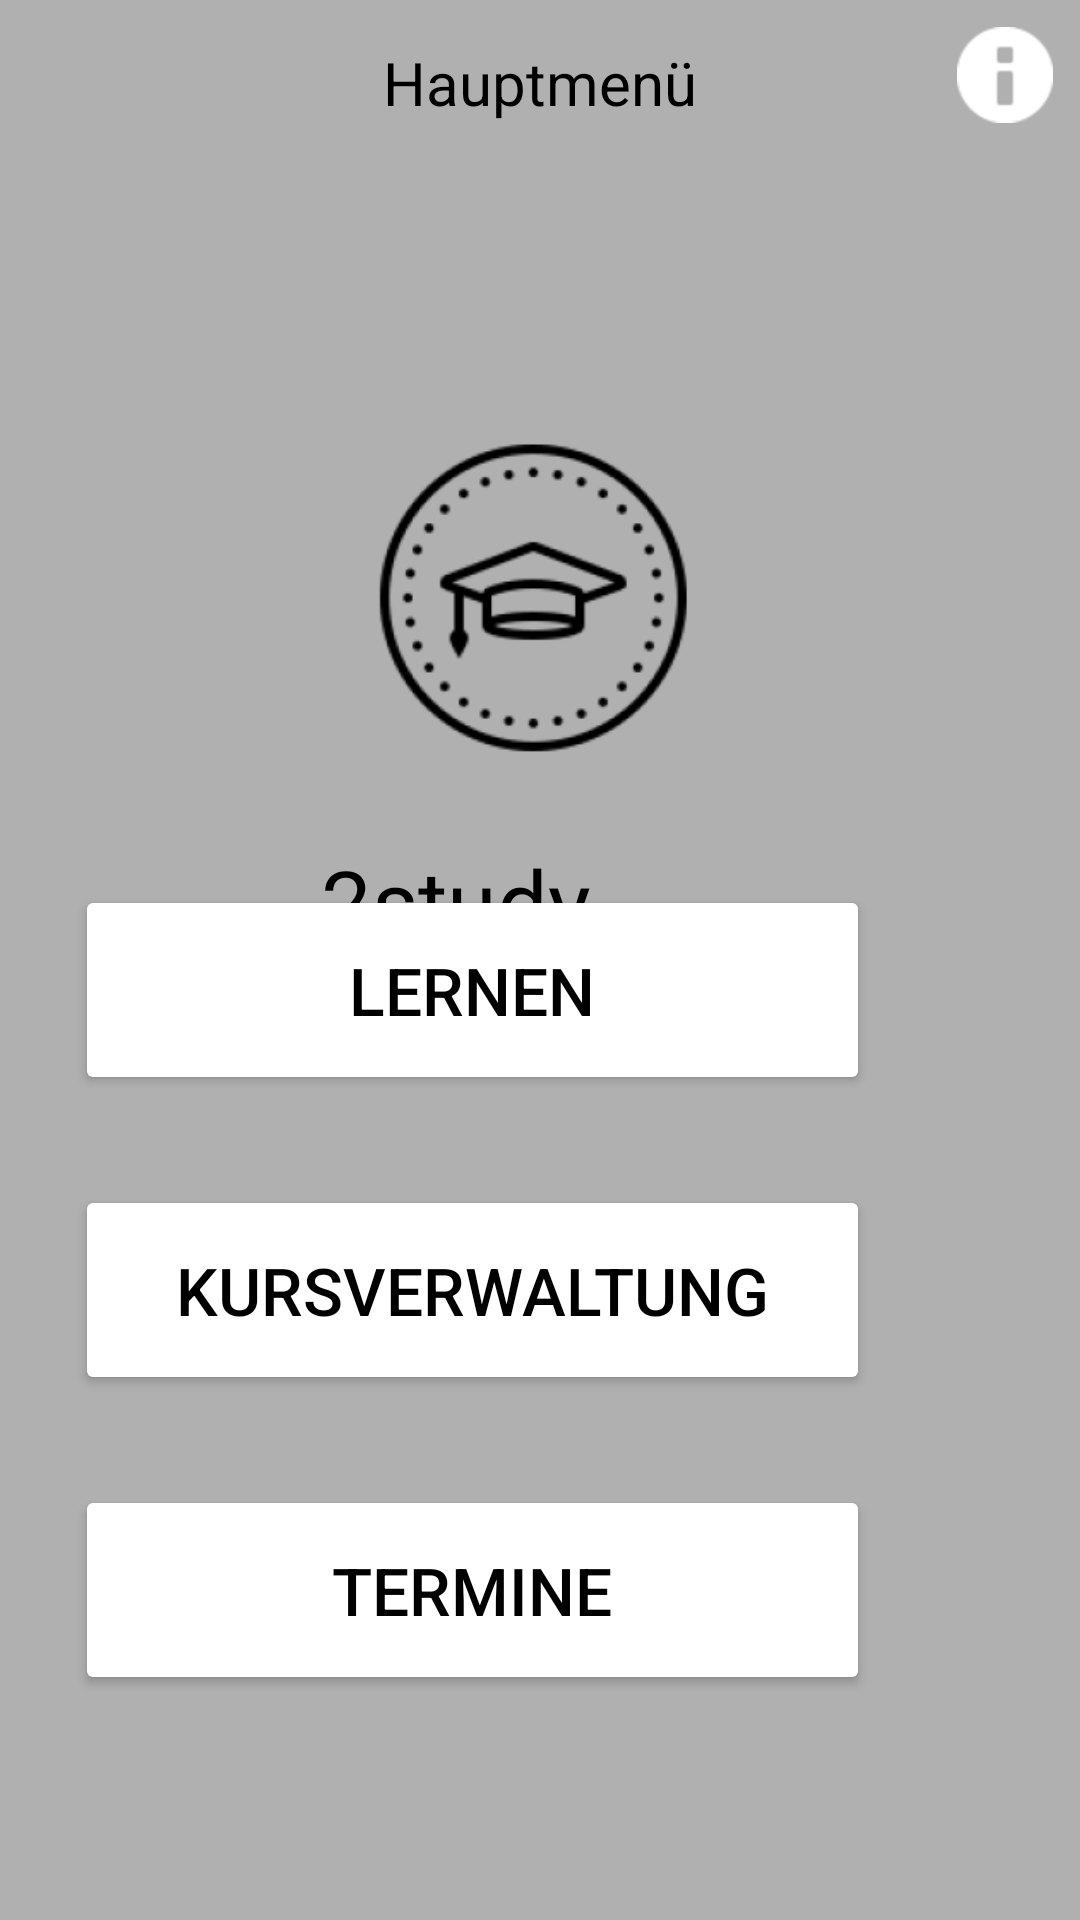

Point at icon controls on the screen. Image size 1080w x 1920h, points as (x,y).
info: (1005,75)
